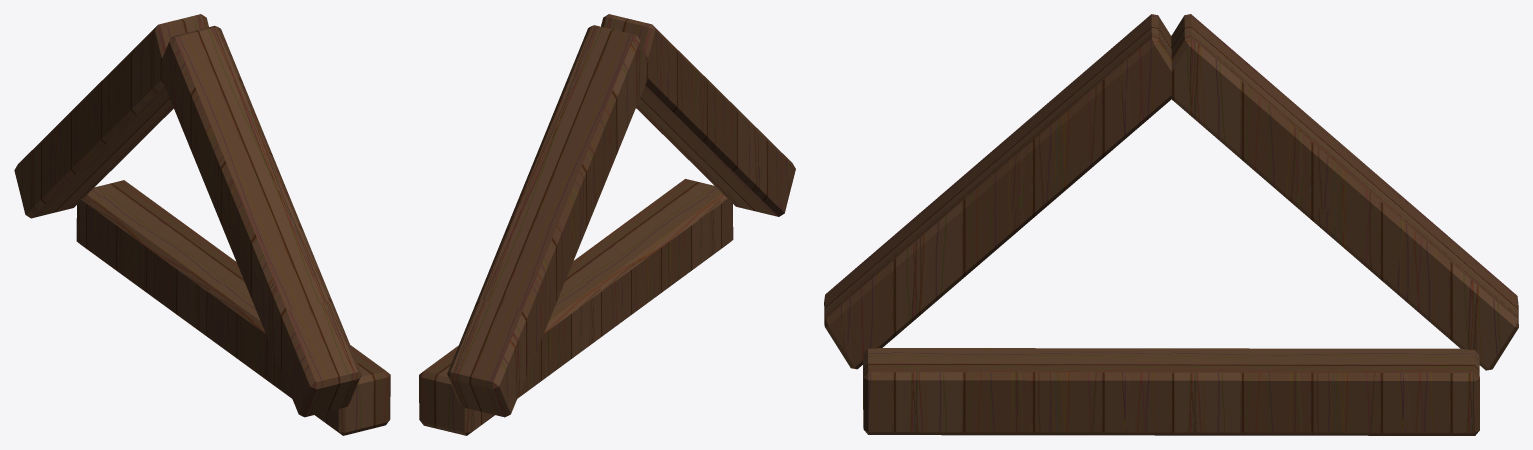
Rendered from SM_HH_Q3_Timber_Entry.fbx.
3 renders of one model, left to right at view 1: azimuth 30°, elevation 25°; view 2: azimuth 150°, elevation 25°; view 3: azimuth 270°, elevation 25°, orthographic. The views are drawn at different scales.
Visible parts, largest first — view 1: HH_Q3_Timber_Entry; view 2: HH_Q3_Timber_Entry; view 3: HH_Q3_Timber_Entry.
Part boxes in pixels (x1,y1,x2,y2): HH_Q3_Timber_Entry: (14,14,390,435); HH_Q3_Timber_Entry: (419,14,795,435); HH_Q3_Timber_Entry: (824,14,1518,435).
Size of the model in its own units: 2.5 by 0.4711 by 1.48.
